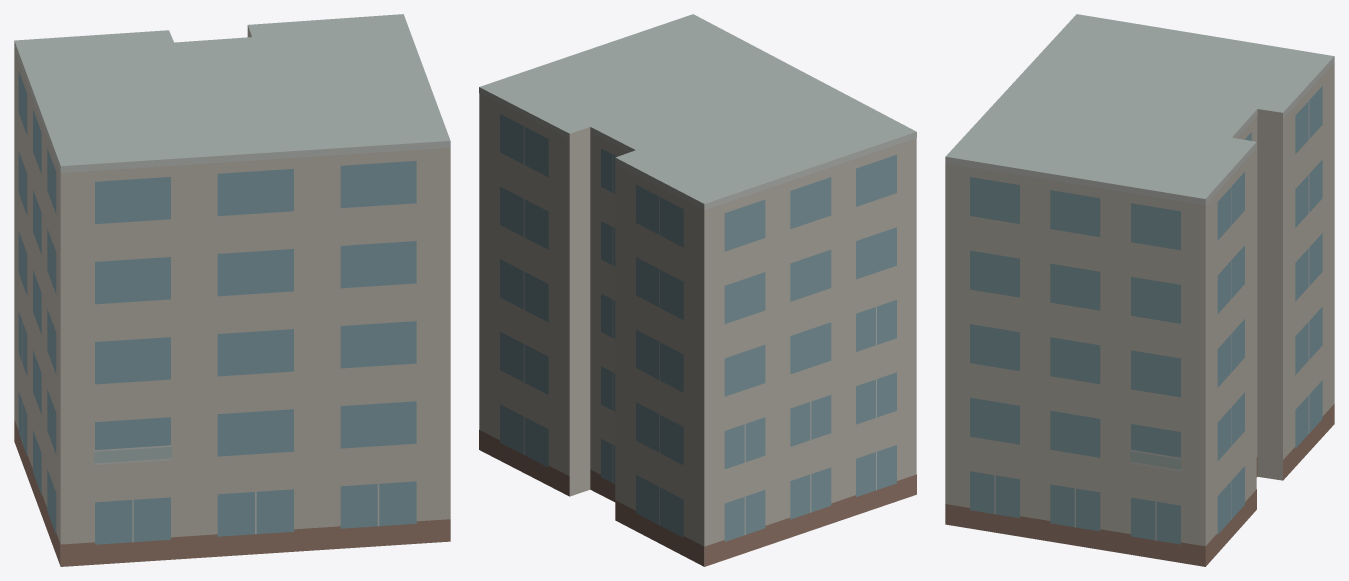
Rendered from survey-upis-32944040.glb.
3 renders of one model, left to right at view 1: azimuth 30°, elevation 25°; view 2: azimuth 150°, elevation 25°; view 3: azimuth 270°, elevation 25°, orthographic. The views are drawn at different scales.
Parts seen in each view (by area): view 1: survey-upis-32944040.tmp; view 2: survey-upis-32944040.tmp; view 3: survey-upis-32944040.tmp.
Part boxes in pixels (x1,y1,x2,y2): survey-upis-32944040.tmp: (14, 14, 450, 566); survey-upis-32944040.tmp: (479, 14, 916, 566); survey-upis-32944040.tmp: (945, 14, 1334, 566).
Size of the model in its own units: 15.44 by 14.3 by 13.72.
